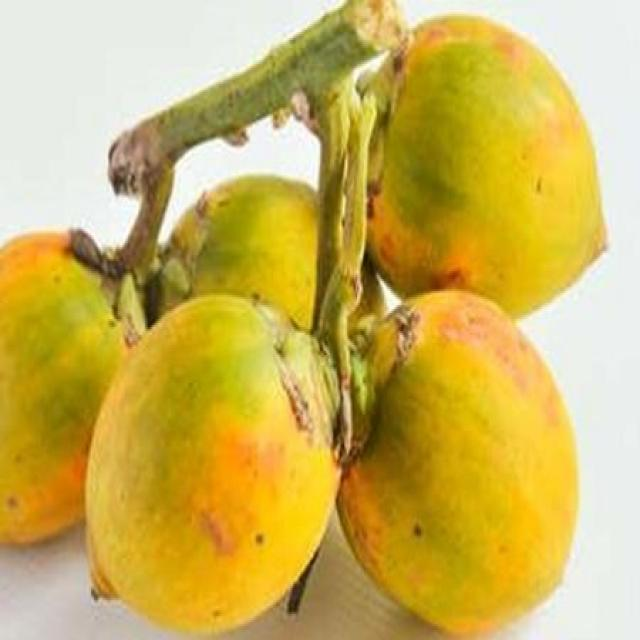good: (84, 293, 367, 638), (337, 289, 582, 638), (366, 12, 612, 323), (0, 231, 127, 550)
